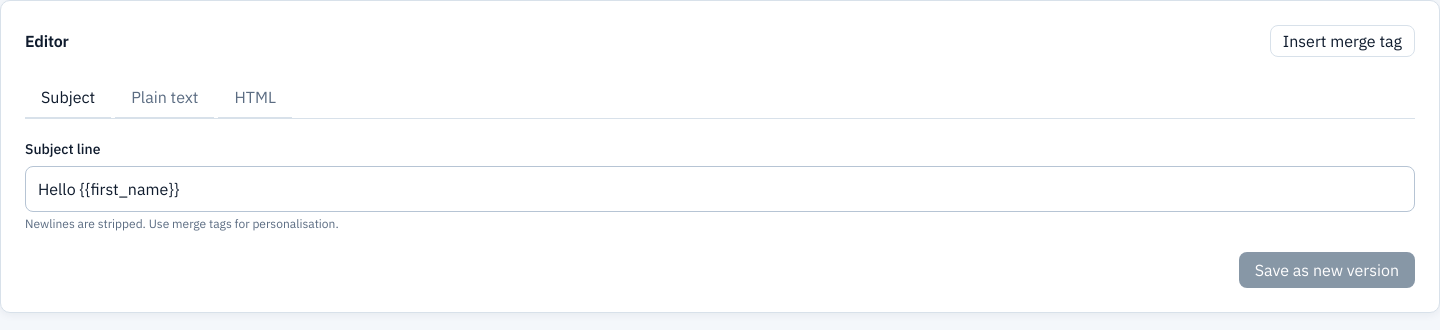
TemplateEditor › shows merge tag listbox when button is clicked
Click the button "Insert merge tag": click(1342, 41) [1270,25,1415,57]
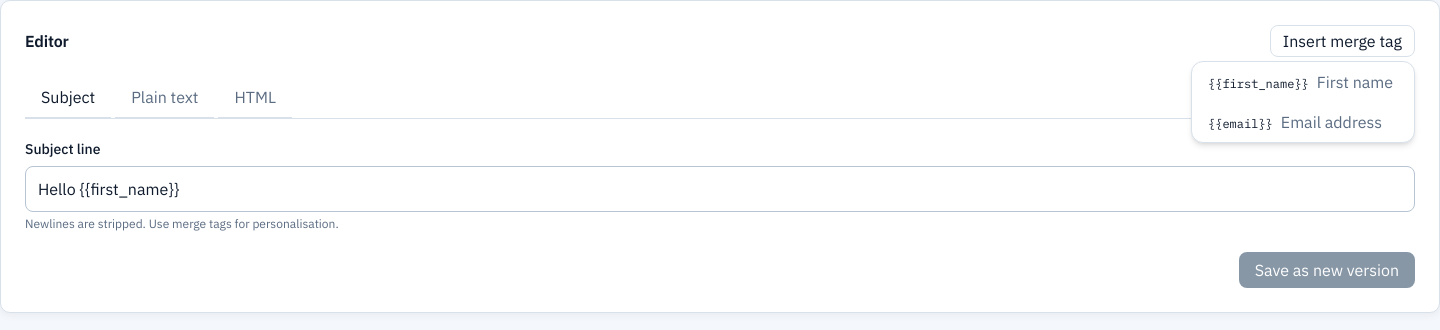
Result: the list named "available merge tags" is shown at [1191,61,1415,143]
Result: the text "First name" is shown at [1317,72,1393,92]
